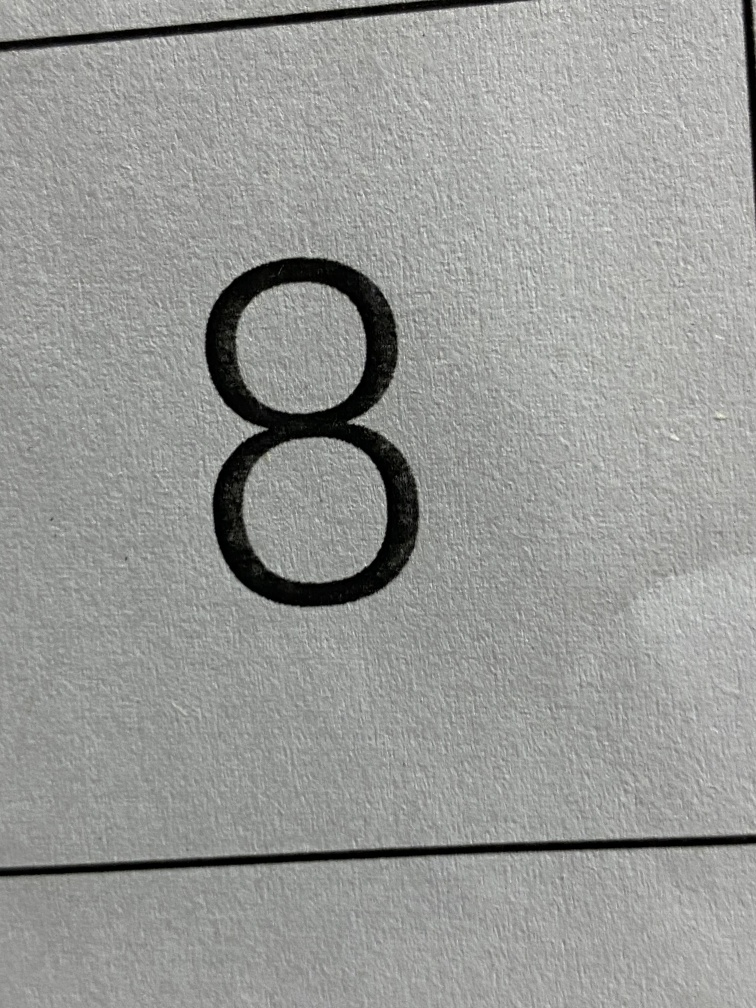eight: (114, 189, 499, 682)
